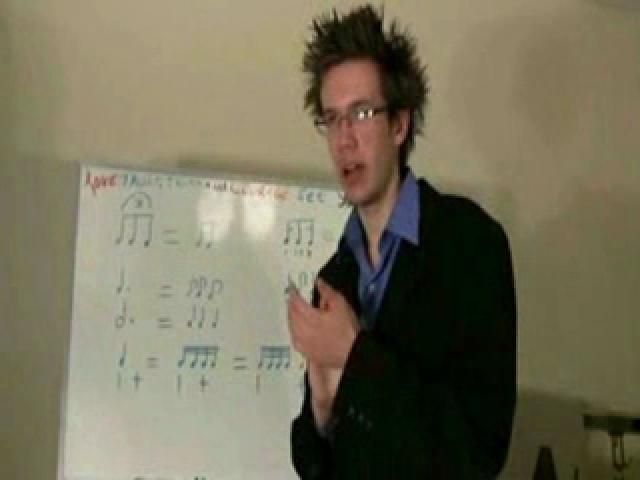F: (272, 0, 526, 480)
